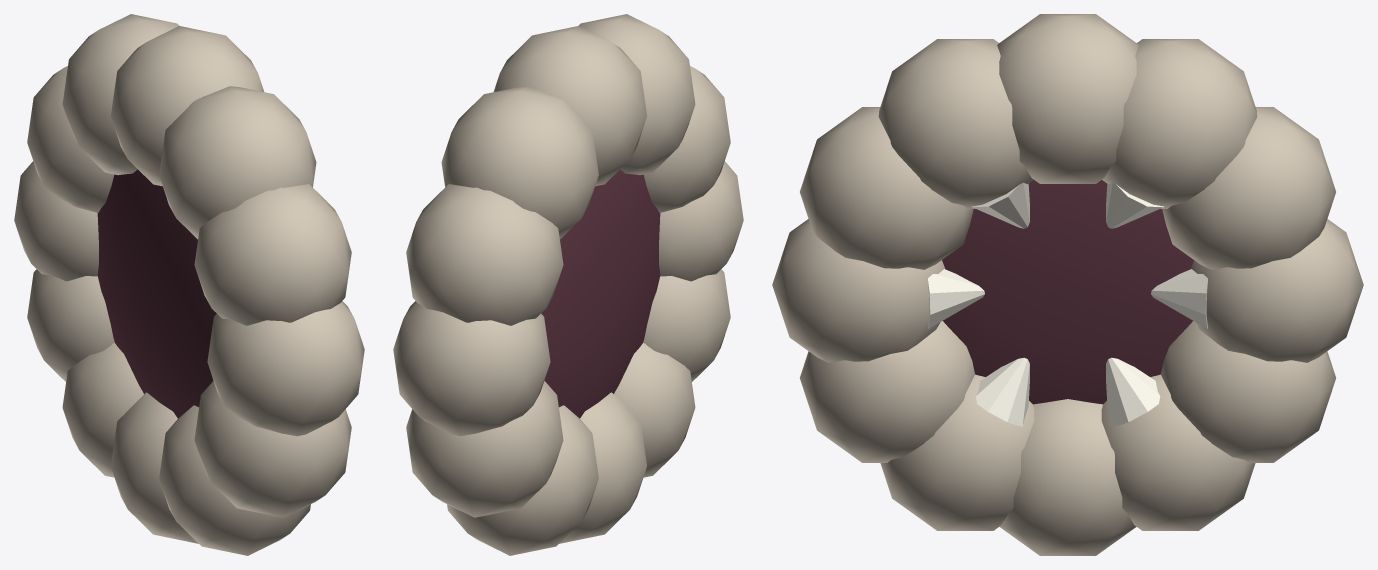
Rendered from cell.filtermouth.glb.
The picture shows the model from 3 angles, left to right: view 1: azimuth 30°, elevation 25°; view 2: azimuth 150°, elevation 25°; view 3: azimuth 270°, elevation 25°; orthographic projection. The views are drawn at different scales.
Visible parts, largest first — view 1: Skin, Dark; view 2: Skin, Dark; view 3: Skin, Dark, Claw.
Boxes of the visible parts, x1,y1,x2,y2 form: Skin: [14, 14, 364, 555]; Dark: [97, 169, 216, 418]; Skin: [393, 14, 743, 555]; Dark: [541, 169, 660, 418]; Skin: [772, 14, 1363, 555]; Dark: [942, 180, 1193, 404]; Claw: [928, 182, 1207, 426].
Size of the model in its own units: 0.1331 by 0.49 by 0.49.
